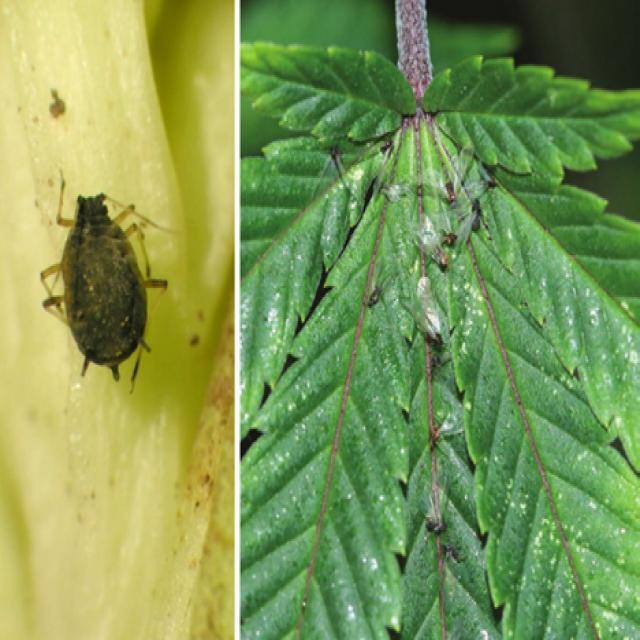Aphid-Grown-: (43, 163, 177, 384)
